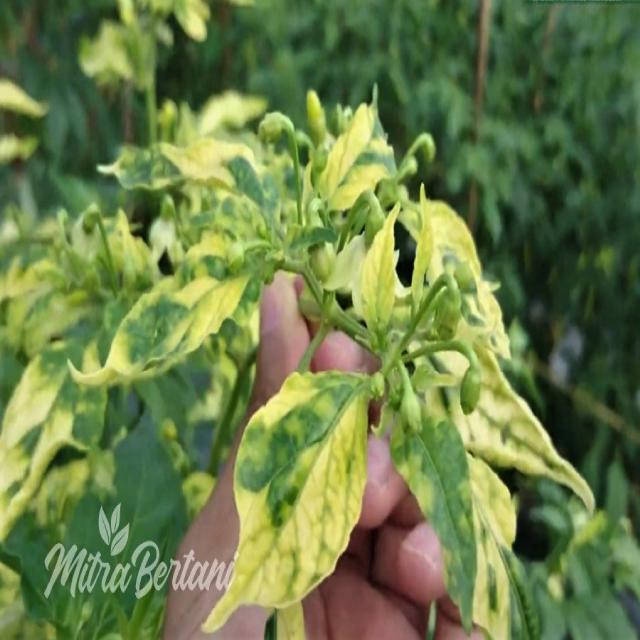virus_kuning: (217, 359, 384, 640), (115, 269, 246, 383), (358, 198, 399, 344)
